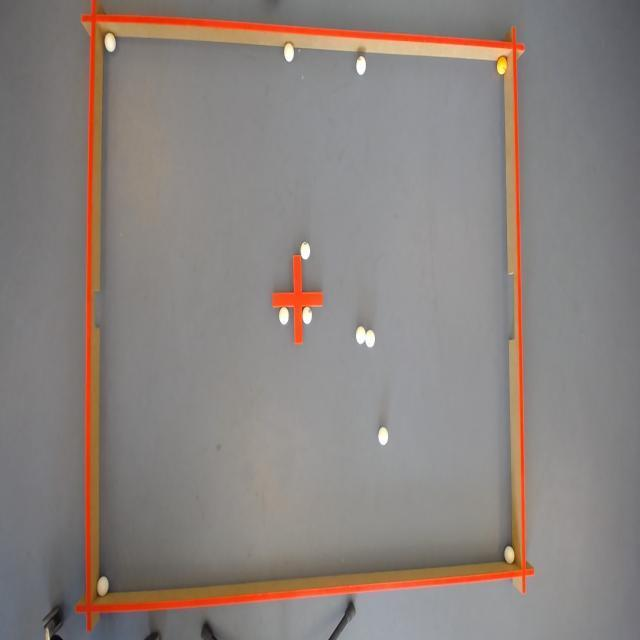orange: (496, 55, 508, 75)
white: (282, 42, 296, 63), (376, 425, 388, 446), (96, 576, 108, 596), (504, 544, 516, 564), (300, 240, 313, 258), (365, 330, 377, 348), (354, 326, 366, 344), (102, 35, 114, 52), (278, 305, 288, 325), (356, 56, 367, 74), (302, 305, 312, 324)
